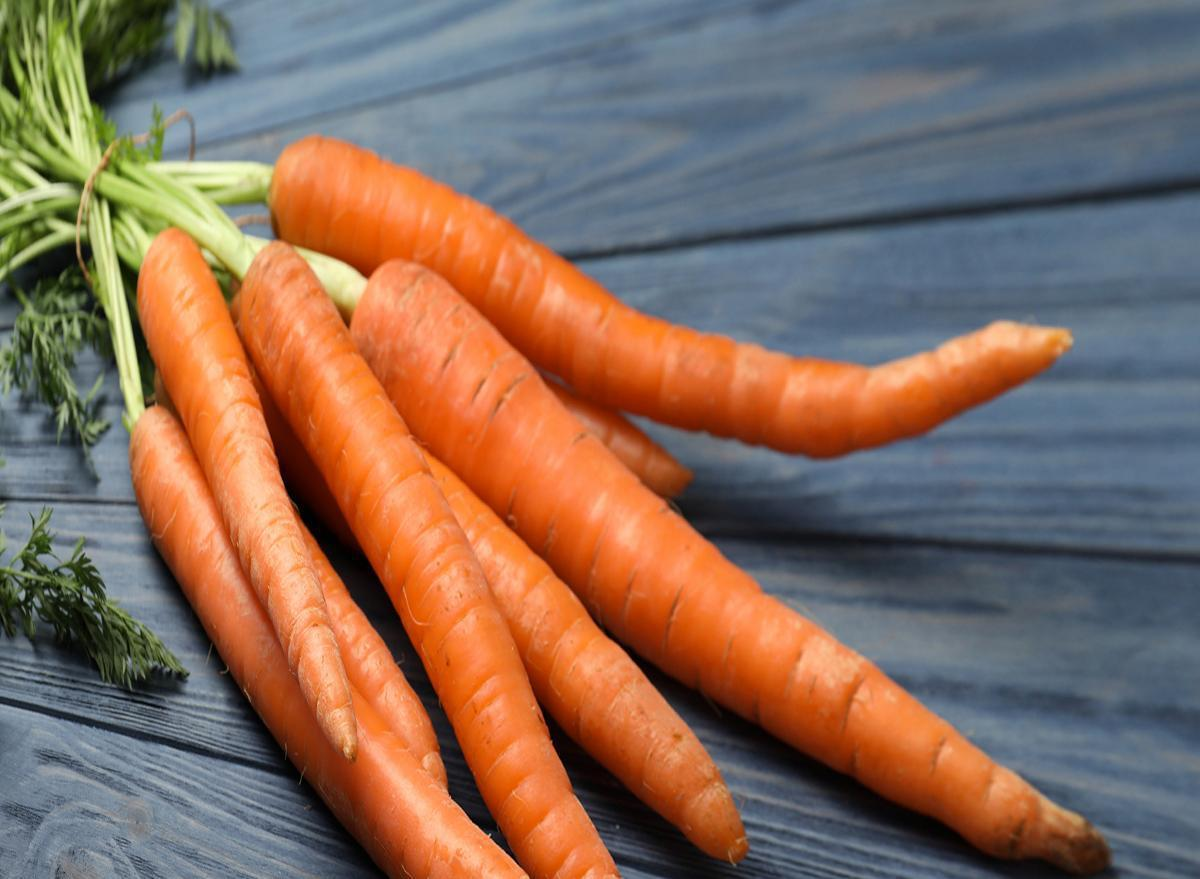carrot: (8, 23, 1107, 879), (256, 117, 1081, 501), (102, 217, 381, 774)
